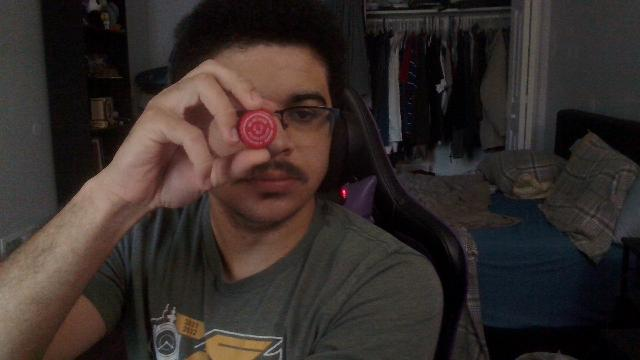cap: (238, 110, 276, 150)
